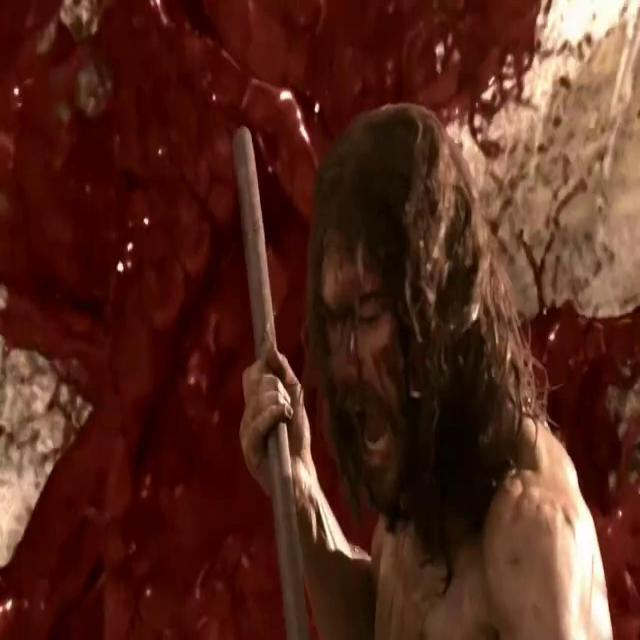flood: (2, 0, 304, 368), (5, 450, 324, 640), (306, 3, 558, 145), (526, 293, 640, 499)
